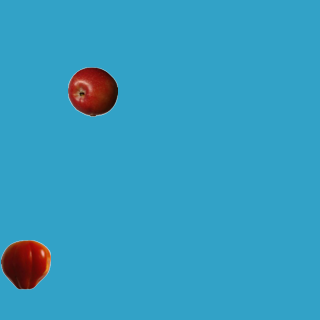Apple Braeburn: (67, 66, 117, 116)
Tomato 1: (0, 239, 50, 289)
